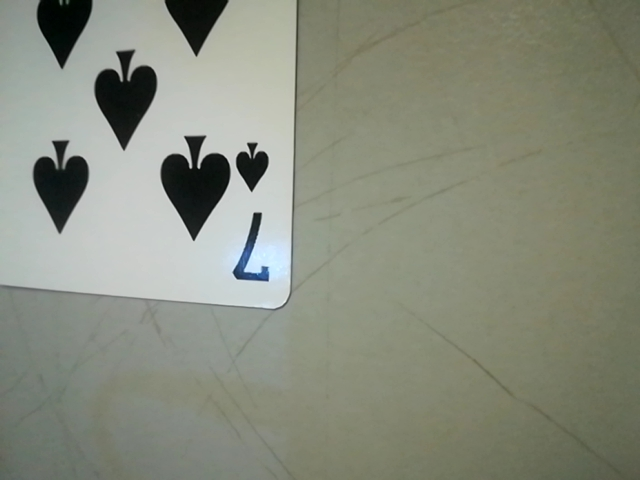ht 7: (223, 129, 287, 302)
